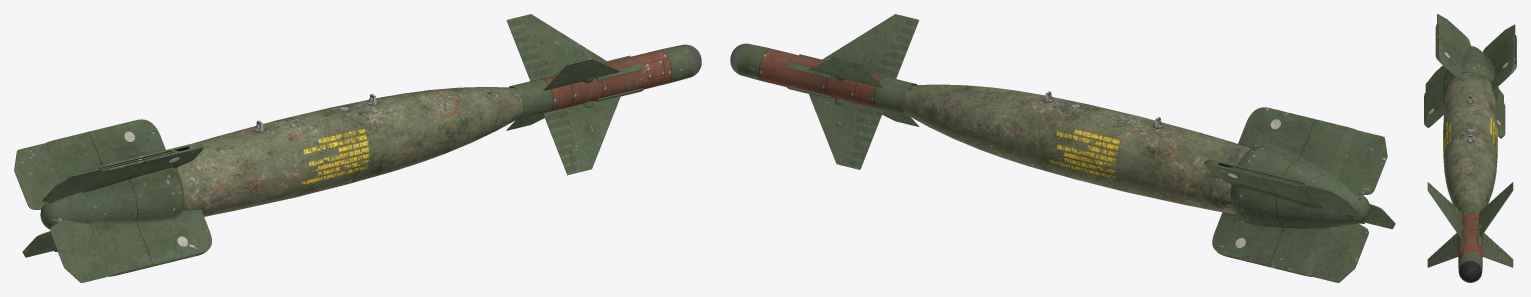
Rendered from gbu24.glb.
3 views of the same model, side by side, from view 1: azimuth 30°, elevation 25°; view 2: azimuth 150°, elevation 25°; view 3: azimuth 270°, elevation 25° (orthographic). The views are drawn at different scales.
Parts seen in each view (by area): view 1: Object_4, Object_2; view 2: Object_4, Object_2; view 3: Object_4, Object_2, Object_3.
Boxes of the visible parts, x1=… form: Object_4: x1=14, y1=14, x2=694, y2=282; Object_2: x1=177, y1=87, x2=522, y2=216; Object_4: x1=737, y1=14, x2=1395, y2=282; Object_2: x1=903, y1=84, x2=1252, y2=214; Object_4: x1=1424, y1=14, x2=1516, y2=281; Object_2: x1=1443, y1=72, x2=1497, y2=209; Object_3: x1=1458, y1=261, x2=1482, y2=282.
Bounding box in the file's own units: 4.4 × 0.7674 × 0.7674.
Materials: 3 (2 with a texture image).
